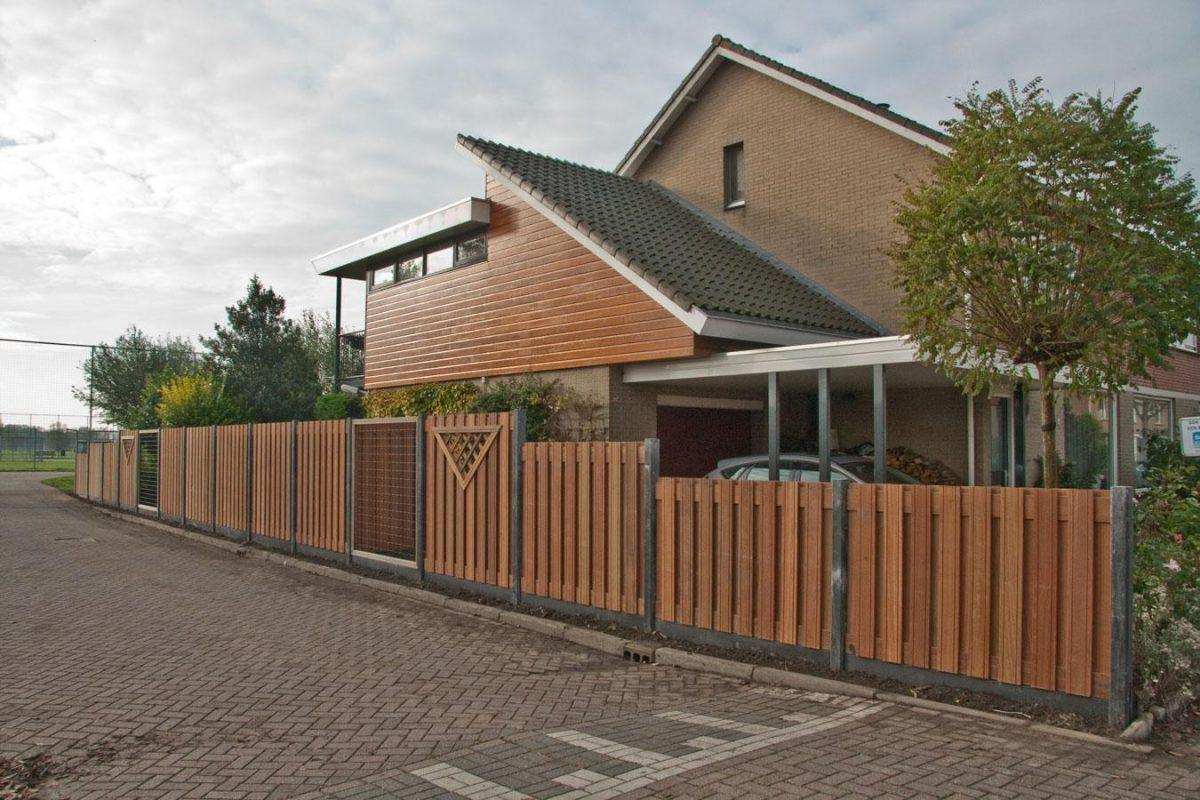obstacle: (96, 271, 1200, 681)
